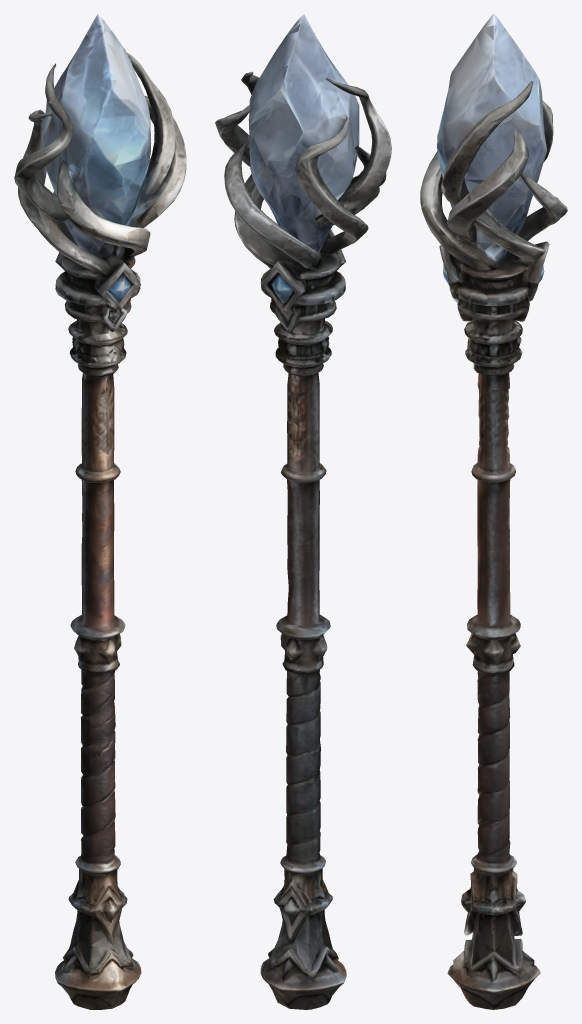
Rendered from StormStaff.fbx.
3 renders of one model, left to right at view 1: azimuth 30°, elevation 25°; view 2: azimuth 150°, elevation 25°; view 3: azimuth 270°, elevation 25°, orthographic.
Visible parts, largest first — view 1: StormStaff; view 2: StormStaff; view 3: StormStaff.
Boxes of the visible parts, x1,y1,x2,y2 form: StormStaff: (14,14,186,1009); StormStaff: (215,14,391,1009); StormStaff: (420,14,567,1009).
Bounding box in the file's own units: 32.2 × 185 × 25.16.
Materials: 1 (1 with a texture image).
